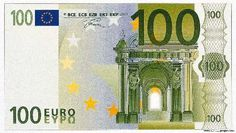billete: (4, 3, 232, 131)
